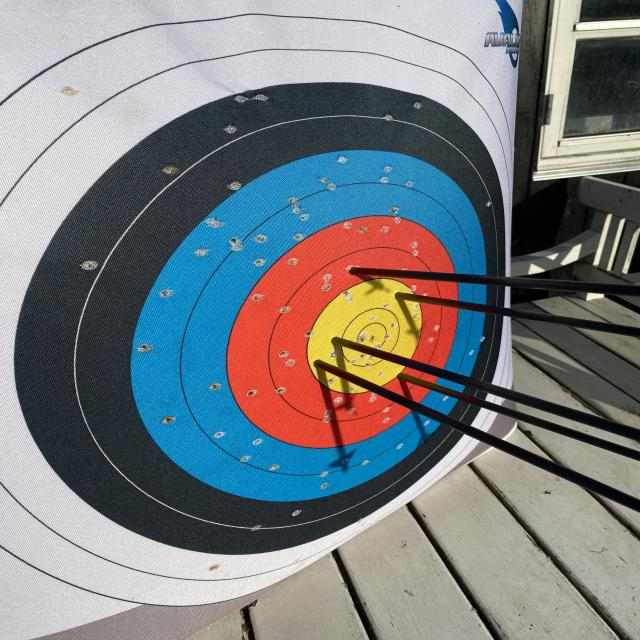Arrow_Red: (338, 257, 368, 286), (390, 360, 410, 388)
Arrow_Yellow: (304, 350, 335, 383), (393, 282, 422, 312), (321, 328, 351, 352)
